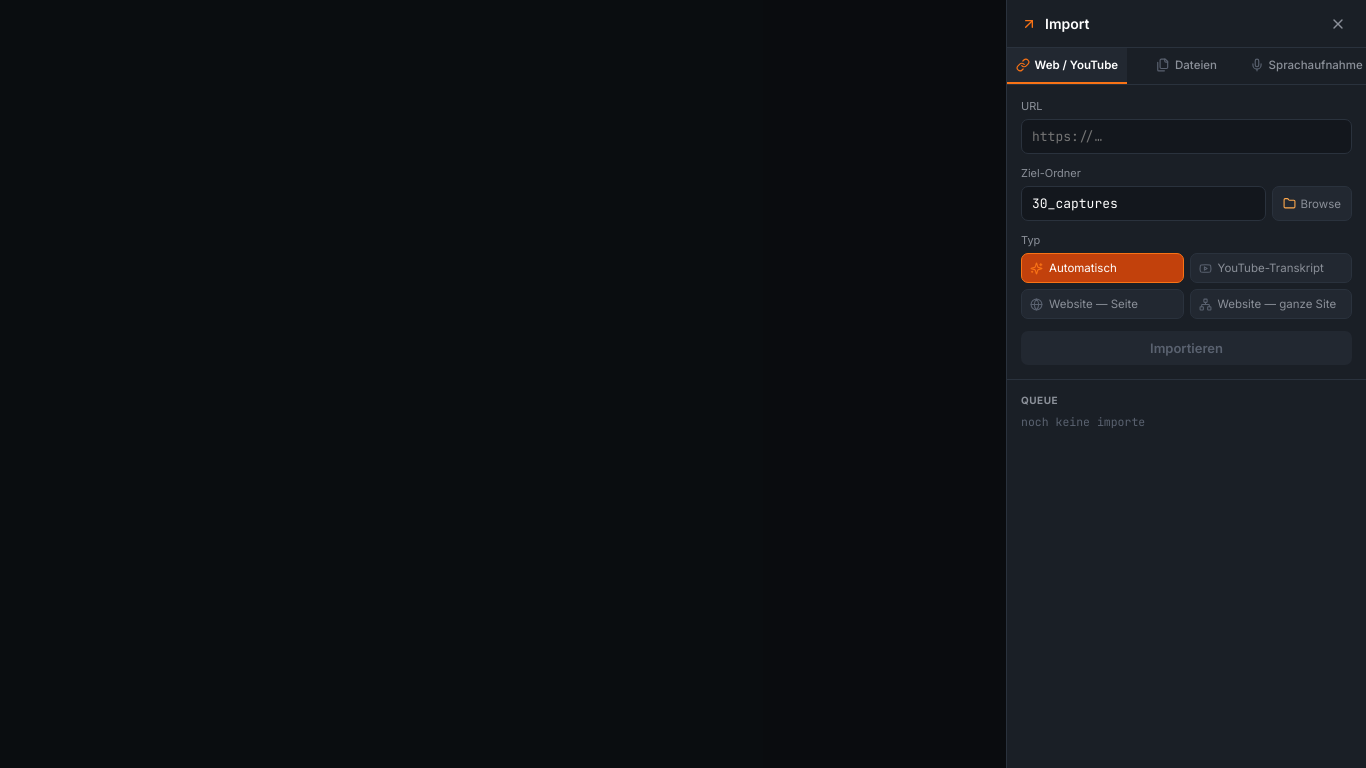
Scenario: ImportPanel — Datei-Import › bietet ohne webkitdirectory keinen Ordner-Knopf, sagt das aber ehrlich
Click the tab "Dateien". click: (1187, 66)
box: [1127, 48, 1246, 84]
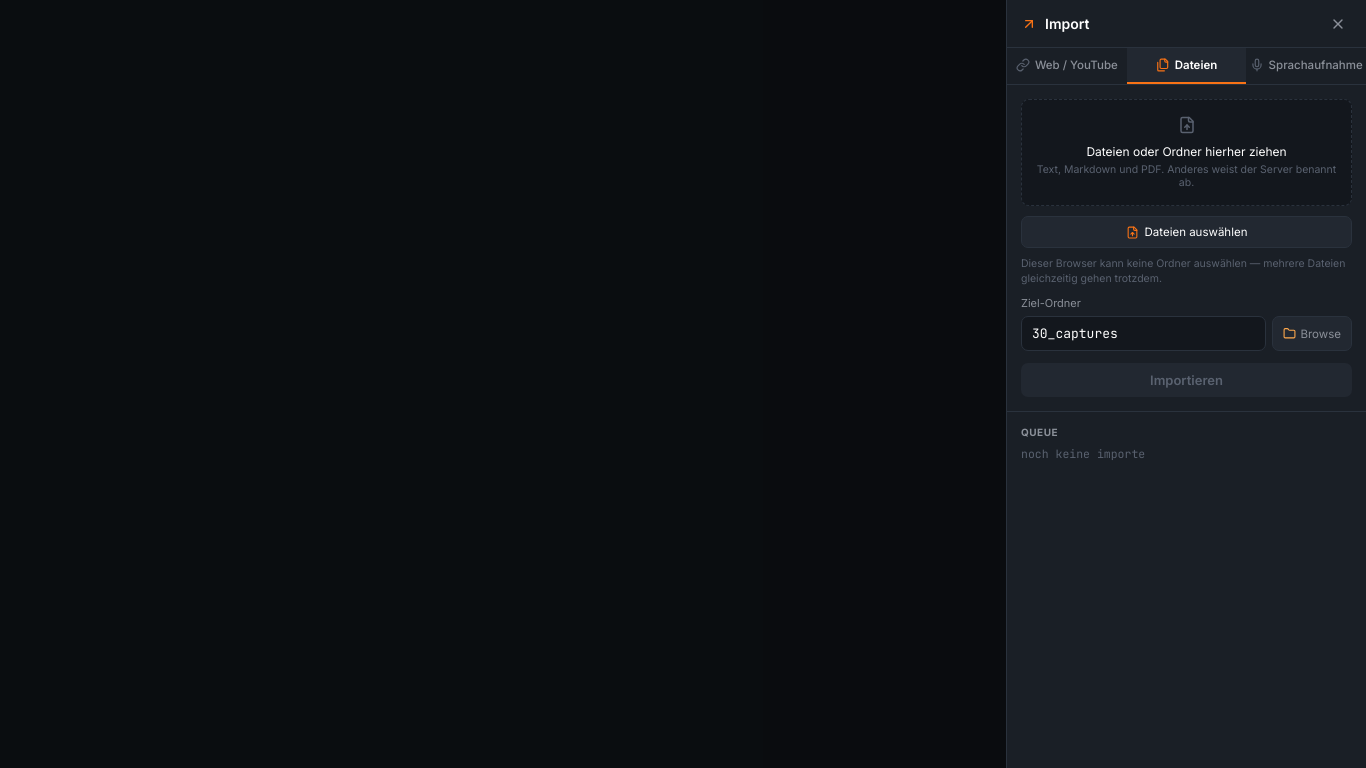
Now the button "Dateien auswählen" is shown, box [1021, 216, 1352, 248]
Now the text "kann keine Ordner auswählen" is shown, box [1021, 257, 1345, 285]
